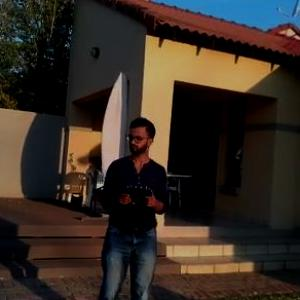follow: (96, 112, 170, 299)
